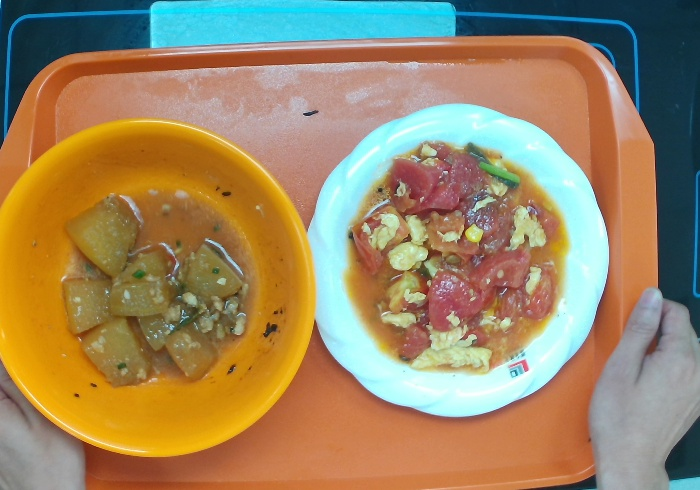ZNLD-Hua_Bian_Wan: (305, 101, 611, 418)
ZNLD-Ju_Se_Tang_Wan: (1, 116, 318, 459)
